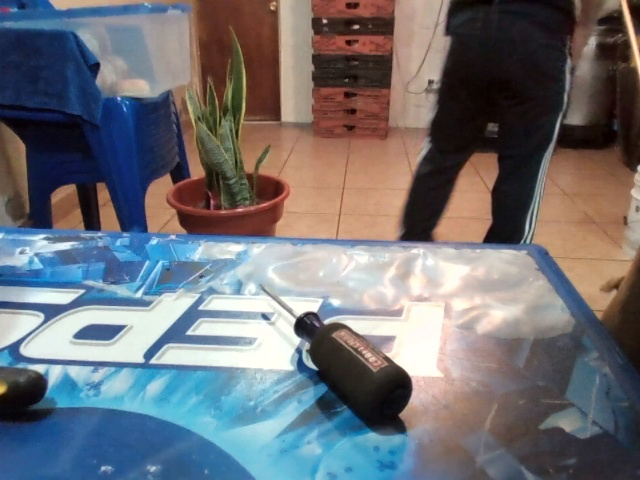destornillador: (261, 282, 413, 424), (0, 364, 49, 415)
